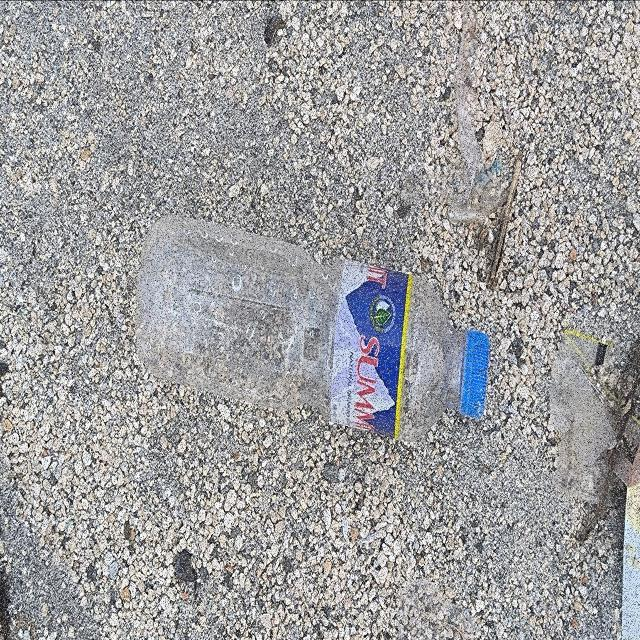plastic_waste: (136, 213, 491, 438)
